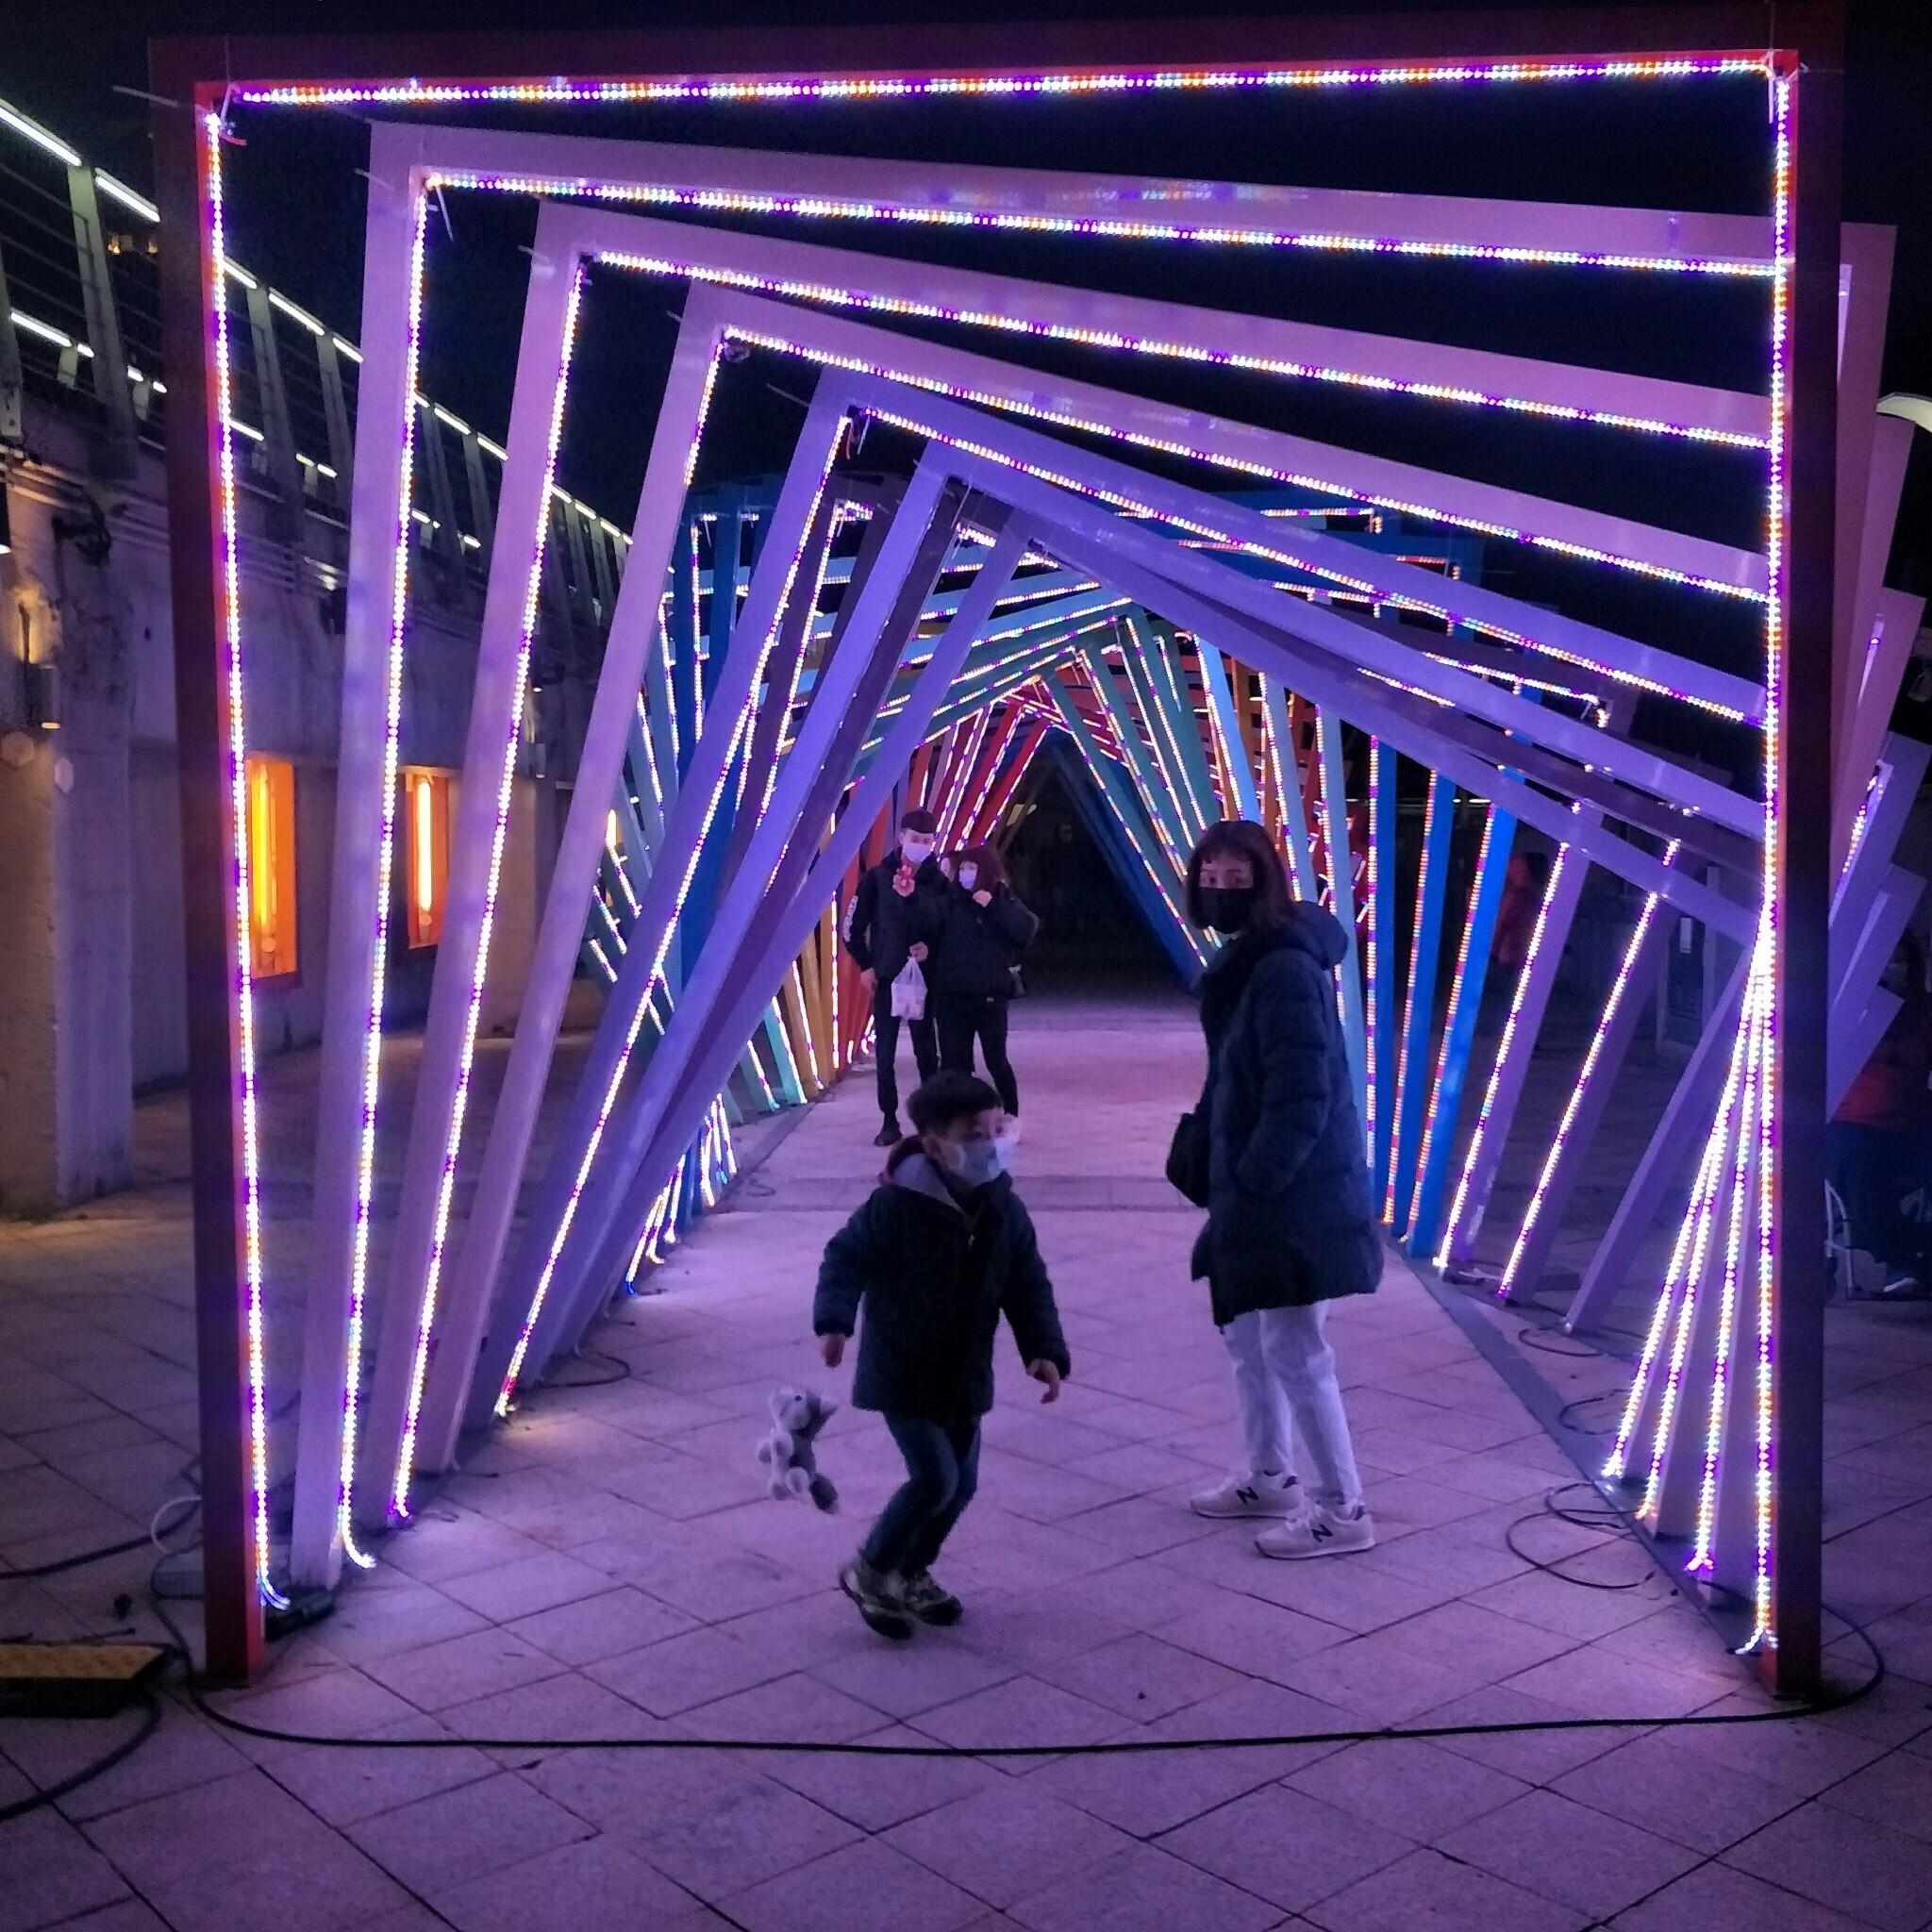people: (1168, 808, 1388, 1563), (849, 1076, 991, 1630), (867, 821, 952, 1137), (949, 842, 1031, 1119)
